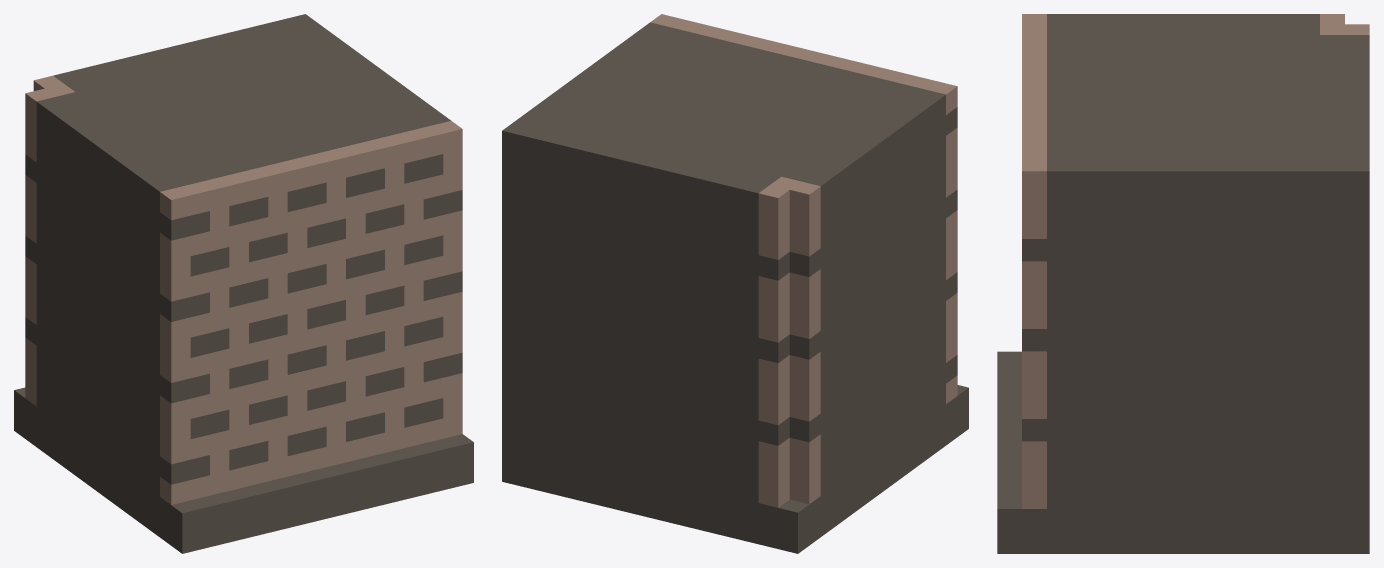
The model's file is dungeon_a_b_outer_wall_segment_d.obj.
The picture shows the model from 3 angles, left to right: view 1: azimuth 30°, elevation 25°; view 2: azimuth 150°, elevation 25°; view 3: azimuth 270°, elevation 25°; orthographic projection. The views are drawn at different scales.
Bounding box in the file's own units: 1.5 × 1.7 × 1.5.
1 material, 1 textured.
